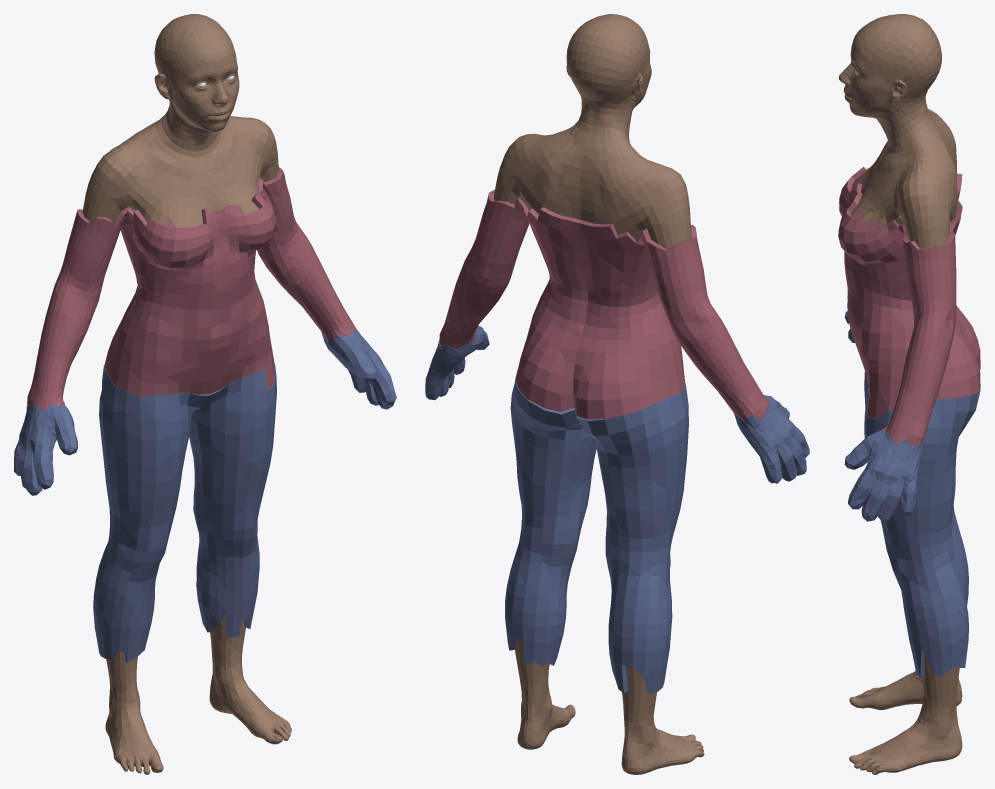
The model's file is variant_female_deep.glb.
The picture shows the model from 3 angles, left to right: view 1: azimuth 30°, elevation 25°; view 2: azimuth 150°, elevation 25°; view 3: azimuth 270°, elevation 25°; orthographic projection.
Parts seen in each view (by area): view 1: PeriHuman; view 2: PeriHuman; view 3: PeriHuman.
Part boxes in pixels (left/top/right/bottom): PeriHuman: left=14, top=14, right=396, bottom=774; PeriHuman: left=425, top=14, right=809, bottom=774; PeriHuman: left=838, top=14, right=980, bottom=774.
Size of the model in its own units: 0.898 by 1.7 by 0.3053.
